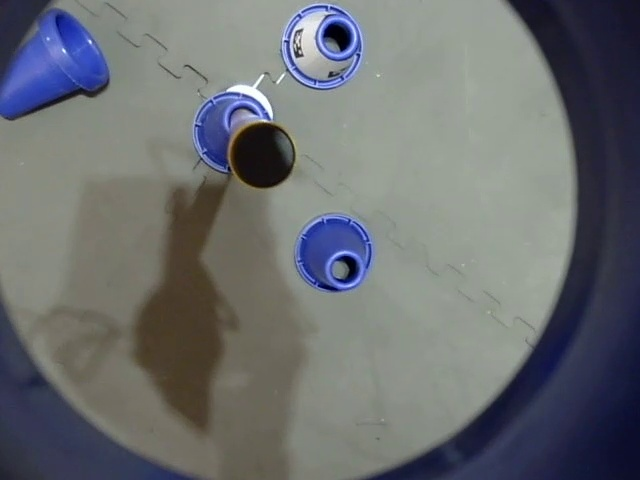tip: (229, 121, 297, 191)
